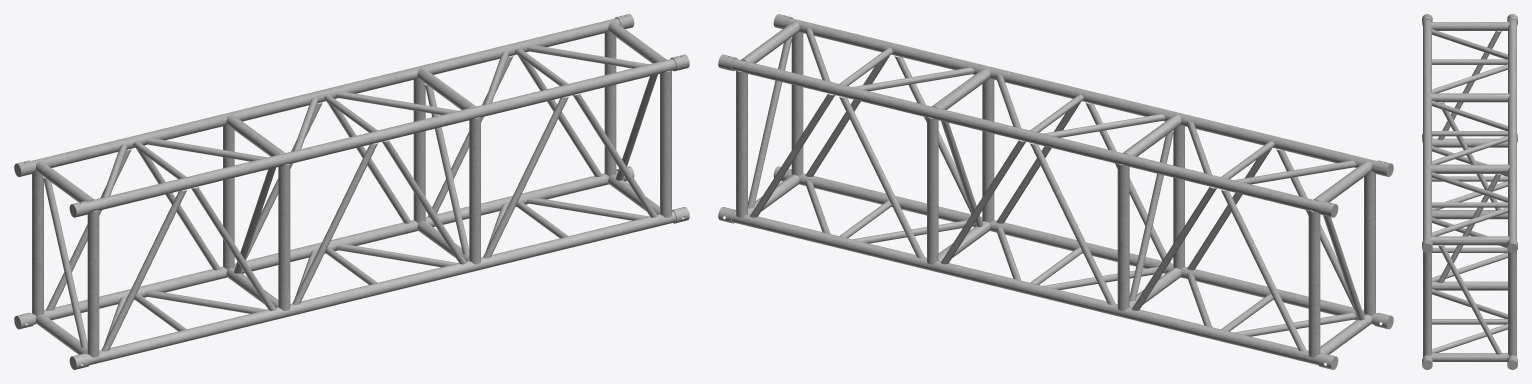
The model's file is Milos_M760_3000_RHT_Truss_section-c66d64b5.glb.
3 renders of one model, left to right at view 1: azimuth 30°, elevation 25°; view 2: azimuth 150°, elevation 25°; view 3: azimuth 270°, elevation 25°, orthographic. The views are drawn at different scales.
Visible parts, largest first — view 1: Geom3D; view 2: Geom3D; view 3: Geom3D.
Boxes of the visible parts, x1,y1,x2,y2 form: Geom3D: (14,14,689,369); Geom3D: (718,14,1393,369); Geom3D: (1422,14,1517,369).
Size of the model in its own units: 3 by 0.771 by 0.529.
Materials: 2 (1 with a texture image).
